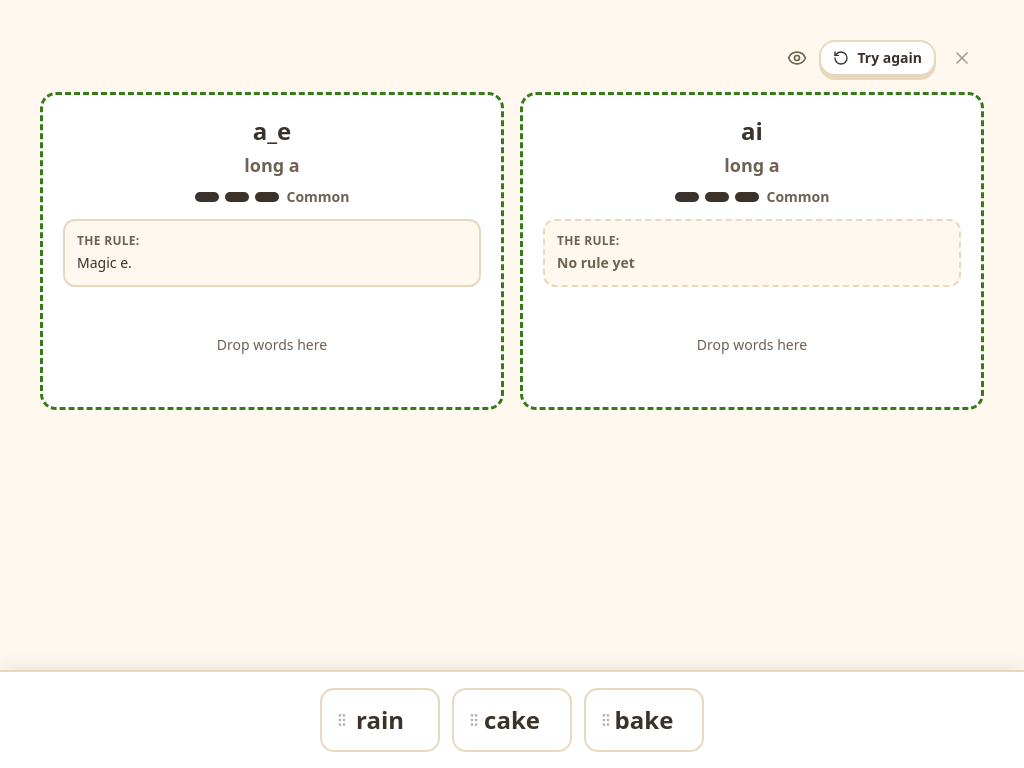
Test case: SortActivity rule display toggle › shows rule cards by default and hides them when the toggle is pressed
The width and height of the screenshot is (1024, 768).
Expected: the text "The rule:" is shown 2 times, [77, 232, 140, 249]; [557, 232, 620, 249]
Click the button named "Show rules" at [797, 58], box [779, 40, 815, 76]
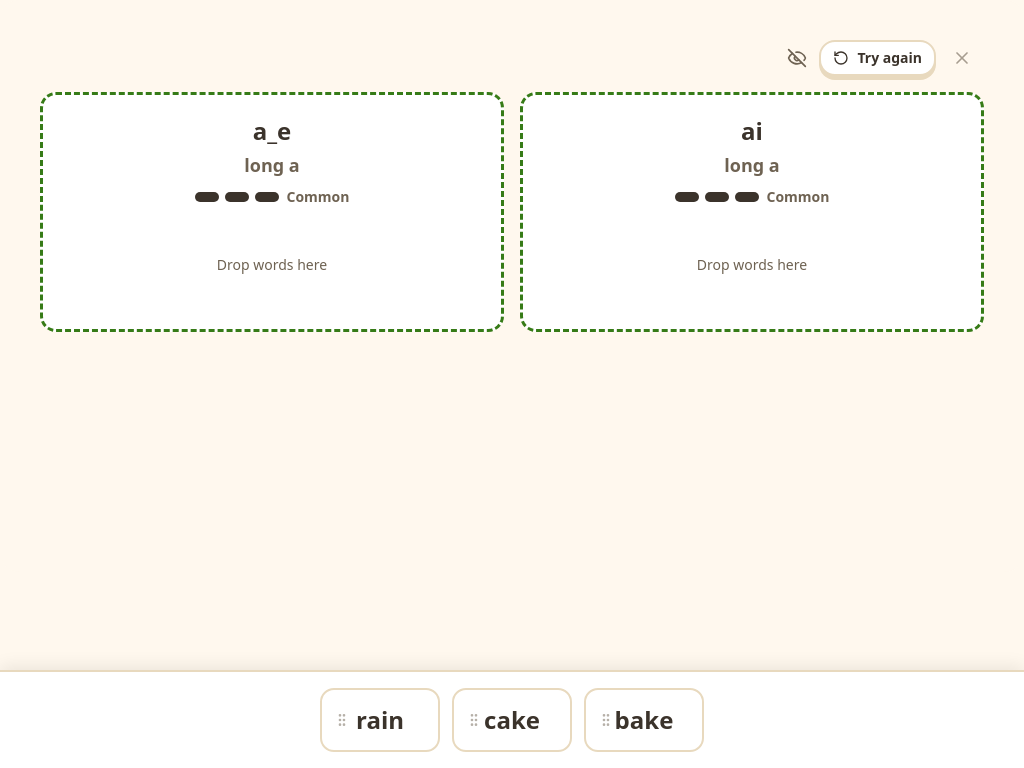
Expected: the text "The rule:" is gone
